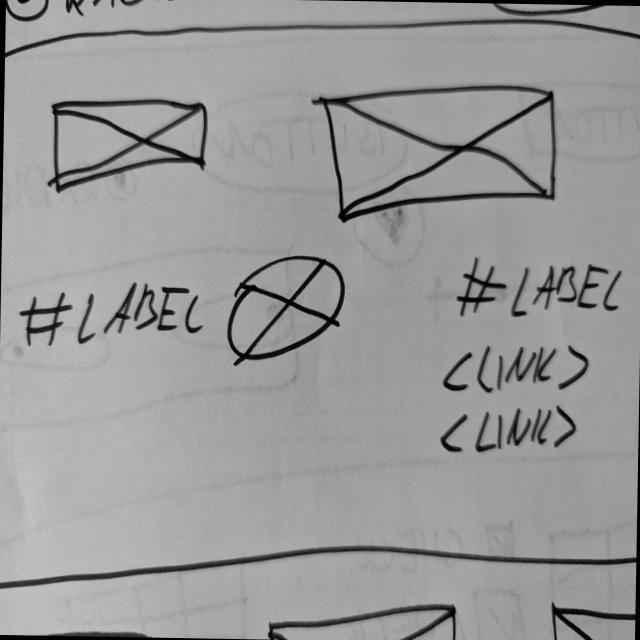image: (317, 81, 560, 232), (49, 93, 210, 200), (226, 252, 347, 367)
label: (17, 275, 208, 355), (449, 255, 625, 324)
link: (440, 338, 593, 400), (436, 401, 579, 462)
